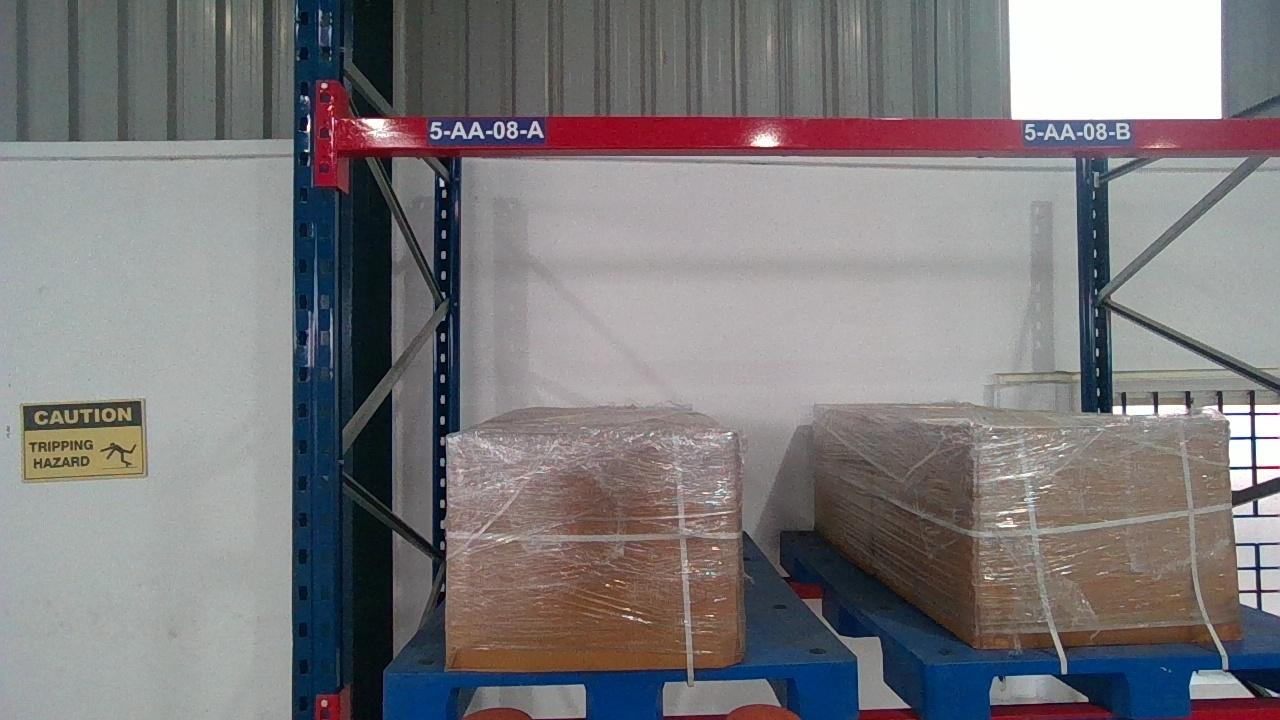h_rack: (335, 114, 1275, 151), (877, 704, 1277, 719)
small_pallet: (380, 664, 856, 719), (931, 657, 1277, 715)
